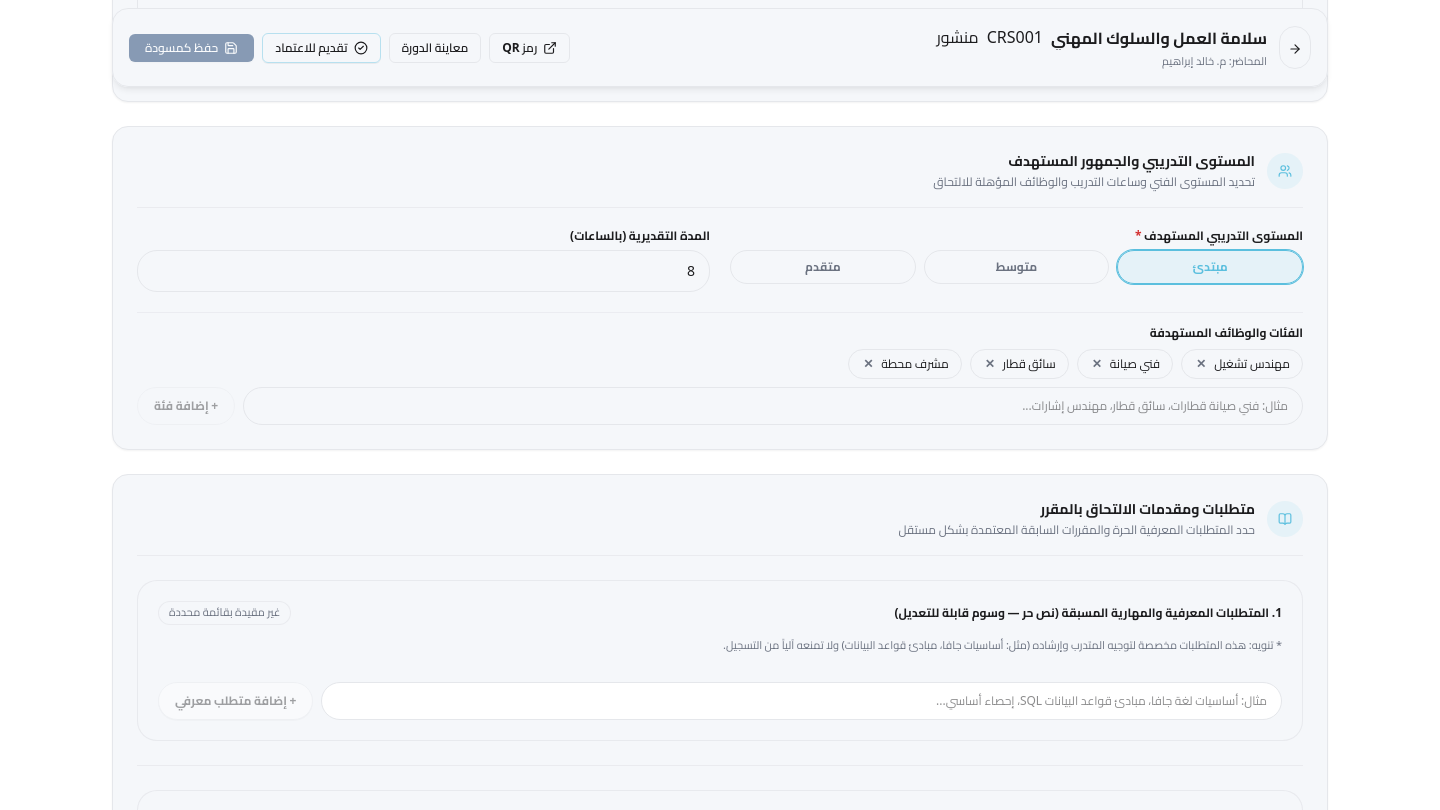
Increment 8: Course Builder & Authoring Suite (/lecturer/builder/:courseId) › B. Course Metadata Editing, Dirty State & Published Snapshot Preservation › manages target job titles (add and remove chips)
(page scrolled)
Type "فني طوارئ سريع" into the field with test id "builder-job-title-input".
click(773, 406); type("فني طوارئ سريع")  # box [243,387,1303,425]
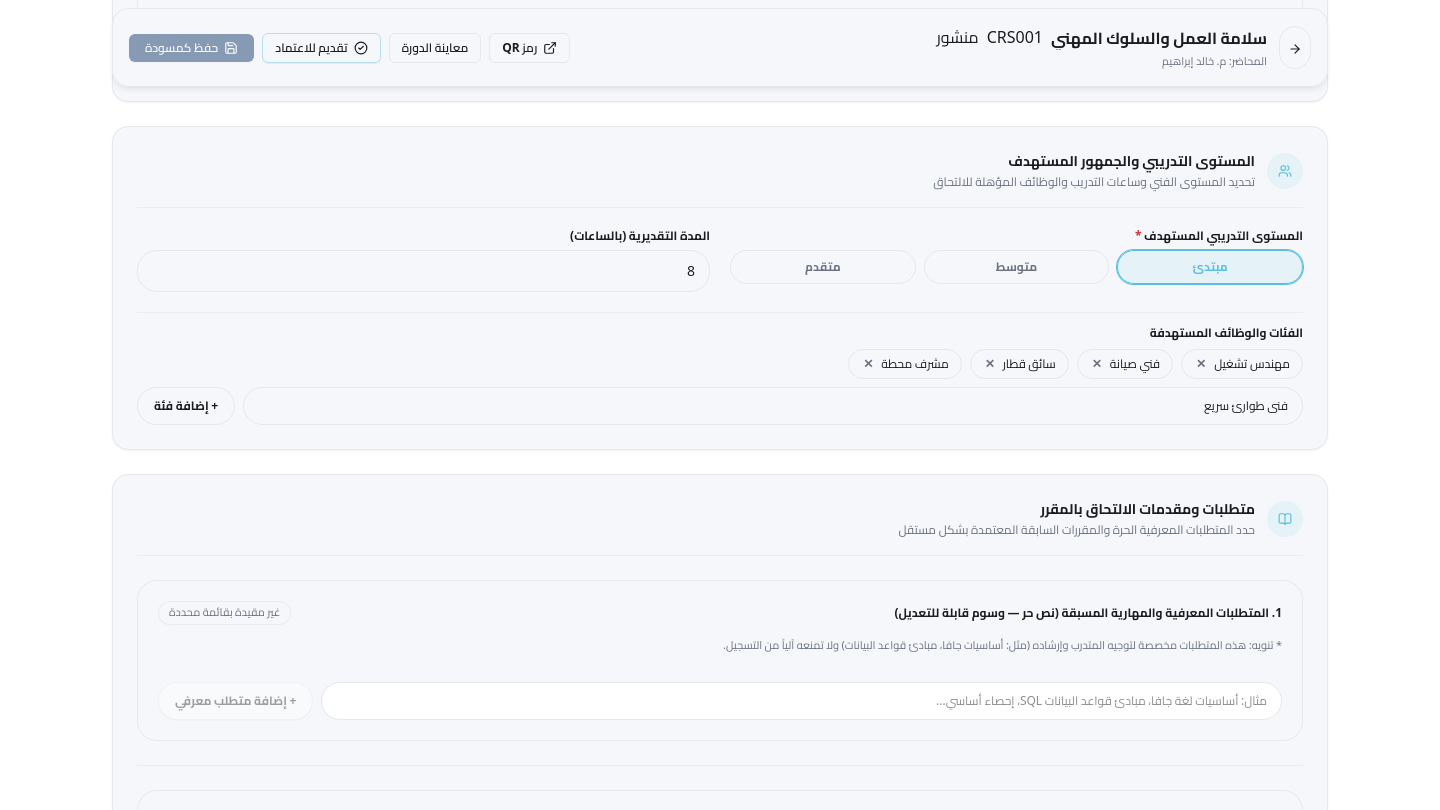
Click the button with test id "builder-add-job-title-btn".
click(186, 406)  # box [137,387,235,425]
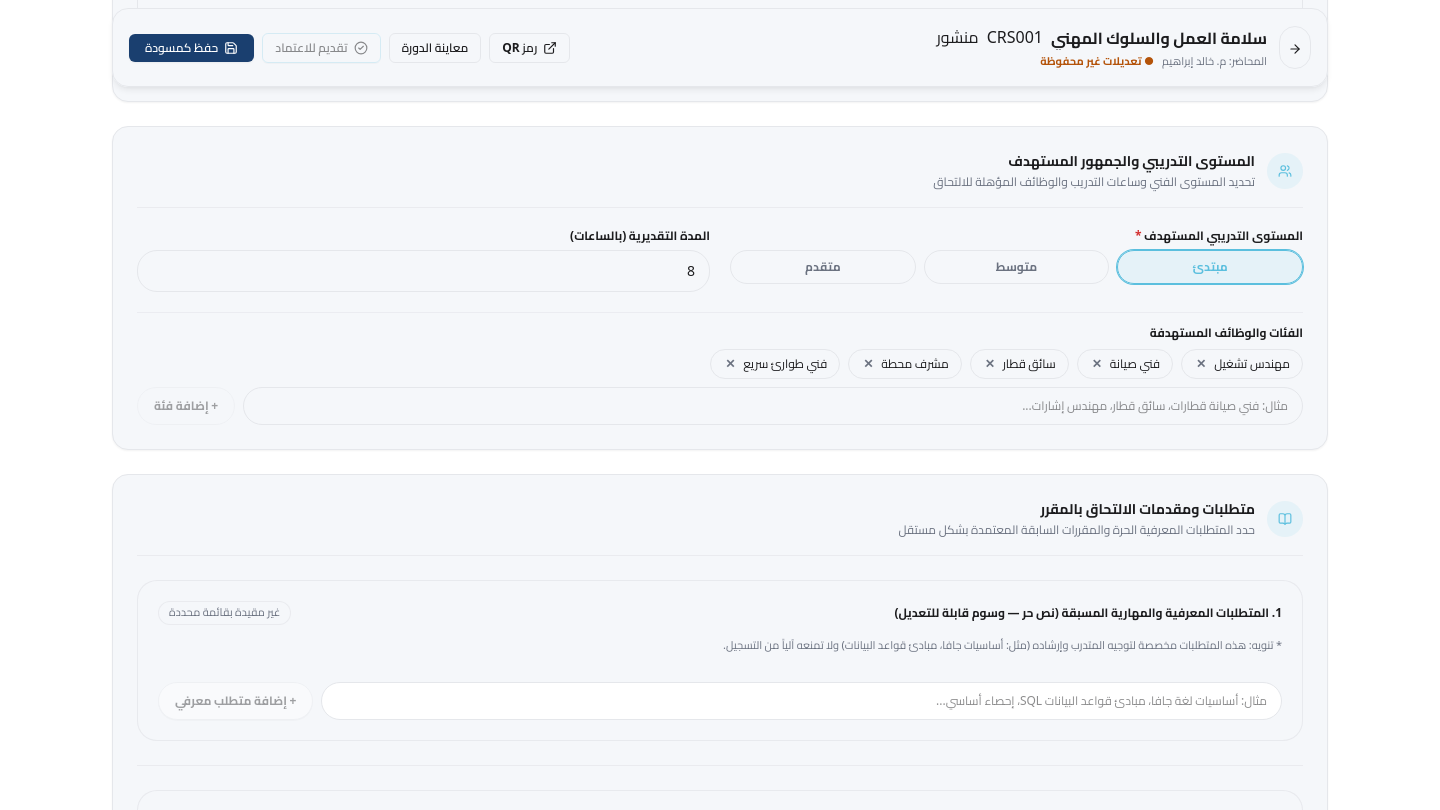
Check: the text "فني طوارئ سريع" is shown, box [743,356,827,372]
# Remove existing job title
Click the button named "حذف الفئة مهندس تشغيل".
click(1201, 364)  # box [1194,354,1208,374]
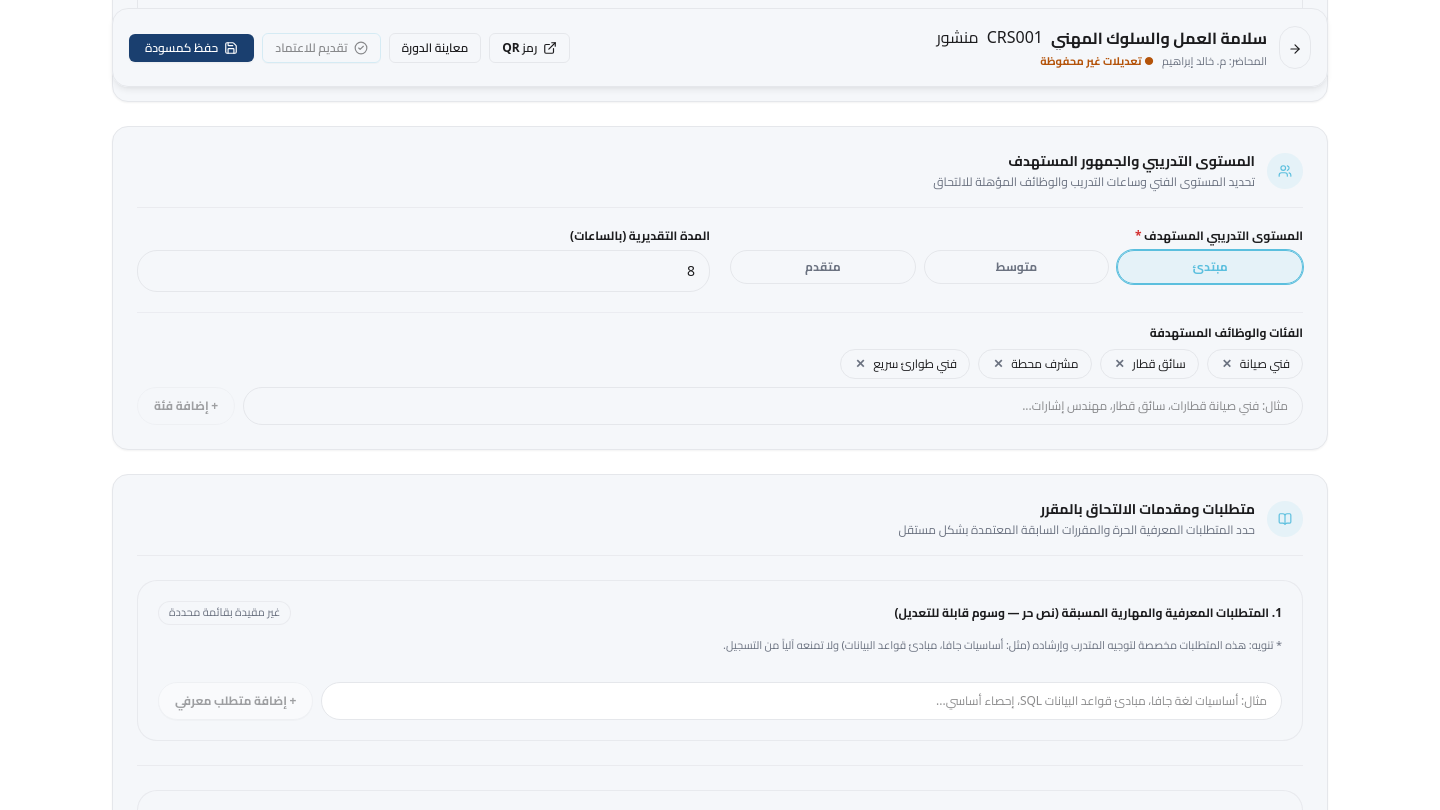
Check: the text "مهندس تشغيل" is gone
